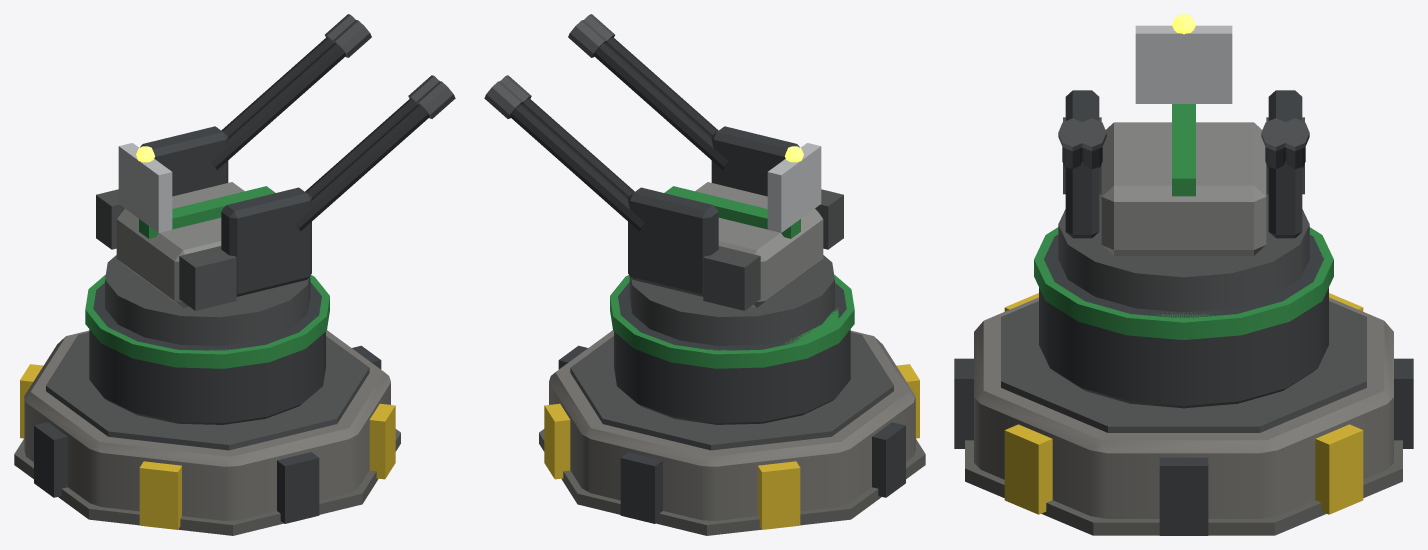
Rendered from aagun.glb.
3 renders of one model, left to right at view 1: azimuth 30°, elevation 25°; view 2: azimuth 150°, elevation 25°; view 3: azimuth 270°, elevation 25°, orthographic. The views are drawn at different scales.
Visible parts, largest first — view 1: Aagun_head, Aagun_Foundation, Aagun_Details, Aagun_Frame; view 2: Aagun_head, Aagun_Foundation, Aagun_Details, Aagun_Frame; view 3: Aagun_Foundation, Aagun_head, Aagun_Details, Aagun_Frame.
Boxes of the visible parts, <box> form: Aagun_head: <box>96,14,455,345</box>; Aagun_Foundation: <box>14,330,400,535</box>; Aagun_Details: <box>20,275,395,529</box>; Aagun_Frame: <box>89,282,325,424</box>; Aagun_head: <box>484,14,843,345</box>; Aagun_Foundation: <box>539,330,925,535</box>; Aagun_Details: <box>544,275,919,529</box>; Aagun_Frame: <box>614,282,850,424</box>; Aagun_Foundation: <box>965,297,1402,535</box>; Aagun_head: <box>1058,14,1309,312</box>; Aagun_Details: <box>954,227,1413,535</box>; Aagun_Frame: <box>1039,234,1328,408</box>.
Bounding box in the file's own units: 1.05 × 0.9974 × 0.95.
